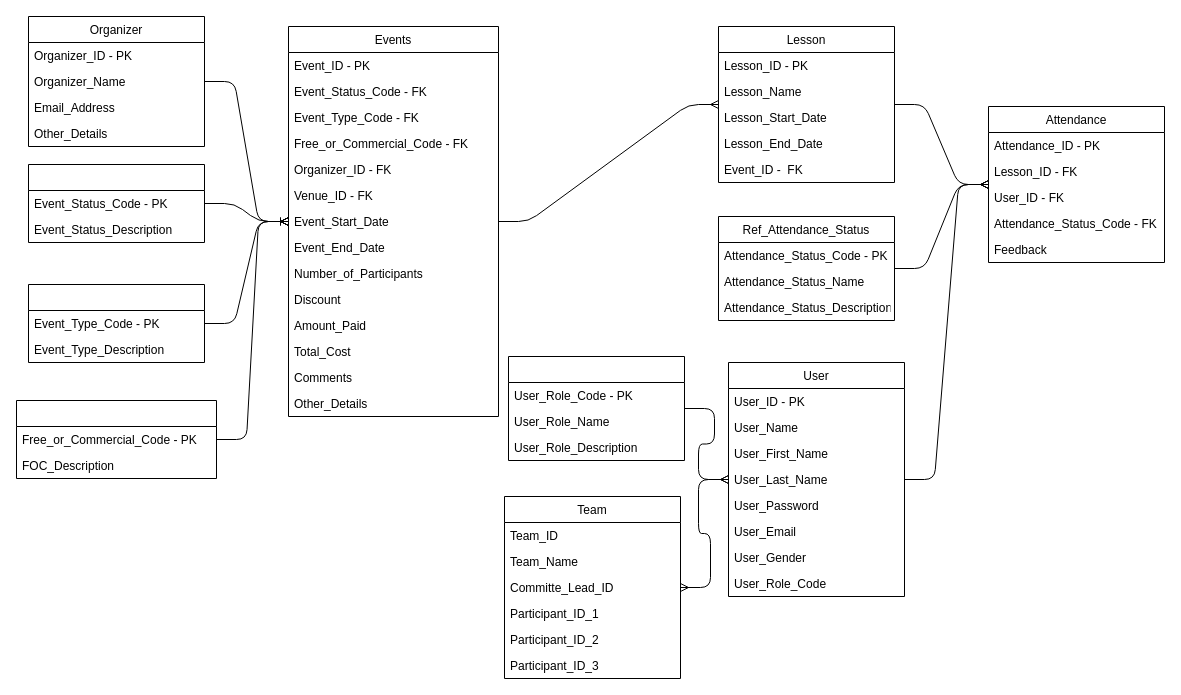
Image size: 1181x695. Some labels were removed from this diagram. Here are the shapes that lost their labels. From the top down, the box of each, then its label:
(28, 164, 204, 242): Ref_Event_Status
(28, 284, 204, 362): Ref_Event_Types
(508, 356, 684, 460): Ref_User_Role
(16, 400, 216, 478): Ref_Free_or_Commercial
